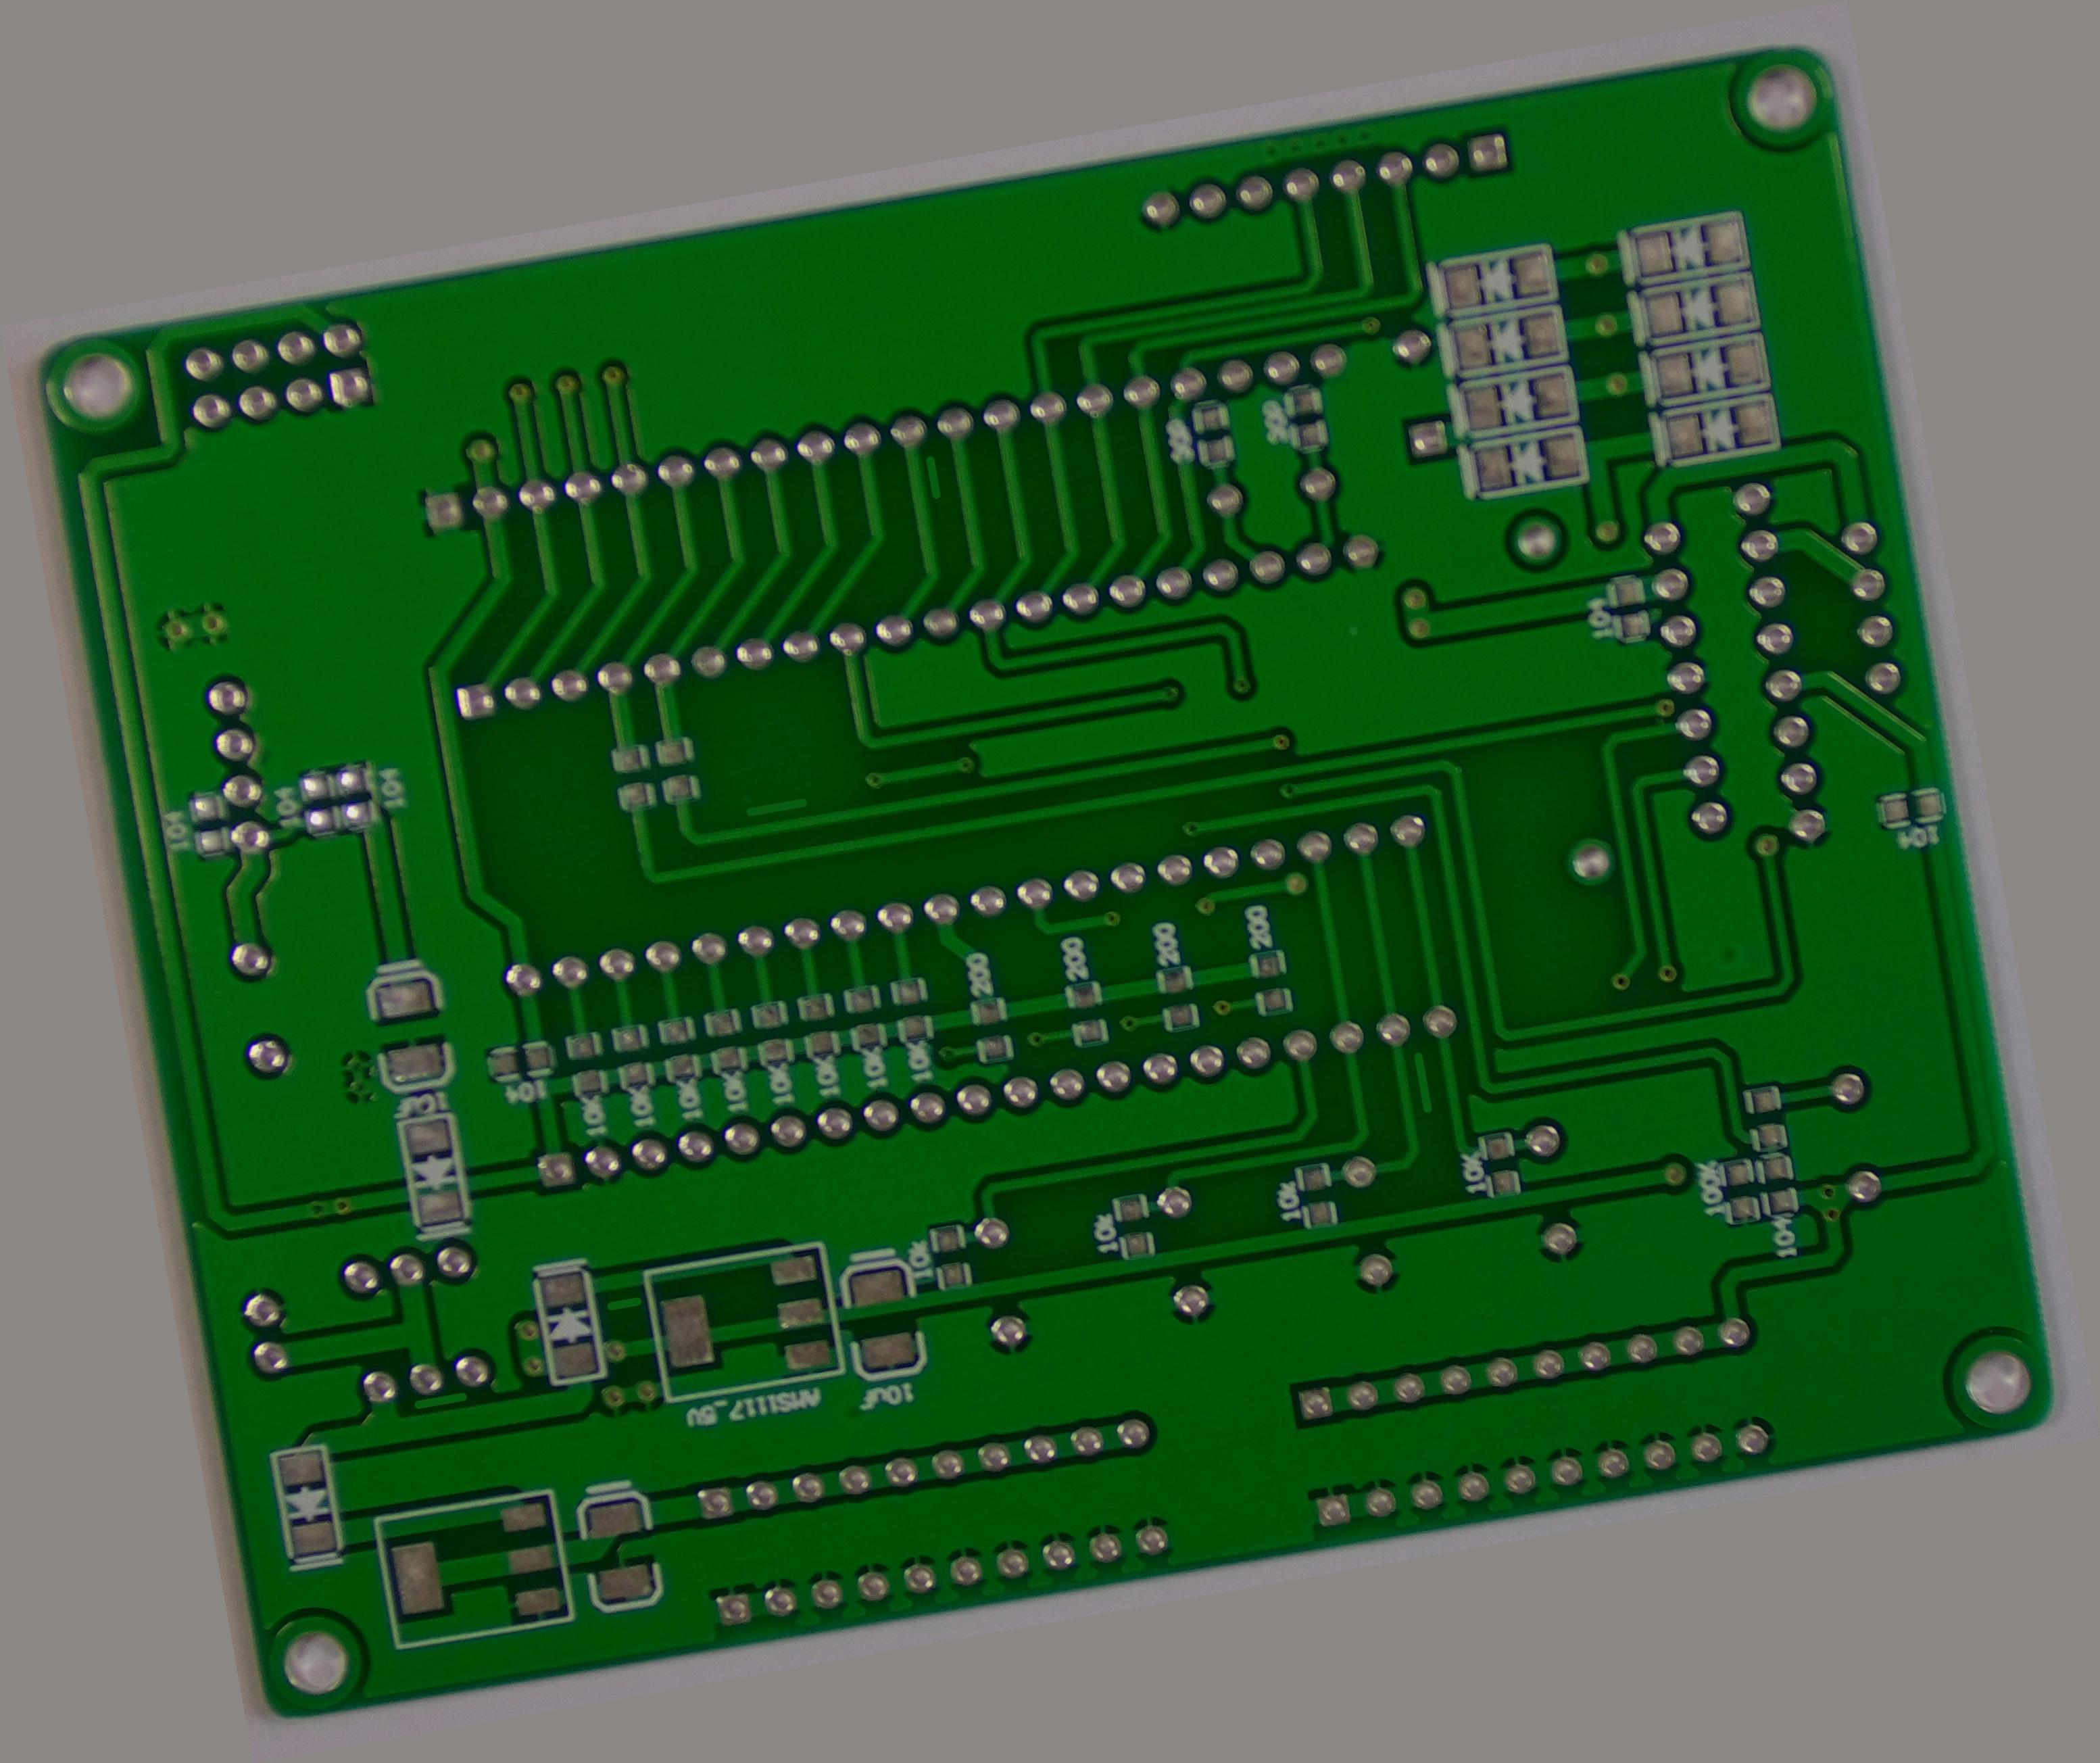spurious_copper: (733, 784, 822, 831), (1397, 1042, 1446, 1125), (406, 1376, 481, 1424), (909, 444, 956, 505), (600, 1279, 649, 1327)
